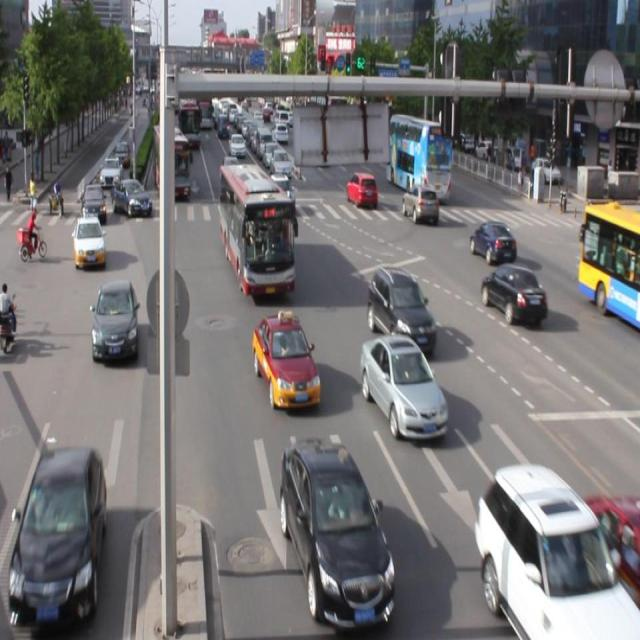car: (475, 462, 640, 640), (280, 436, 394, 626), (9, 444, 108, 616), (360, 334, 447, 438), (252, 312, 321, 410), (368, 266, 435, 355), (480, 263, 548, 327), (92, 281, 140, 364), (468, 220, 516, 265)
van: (220, 166, 295, 294), (576, 204, 640, 329)
